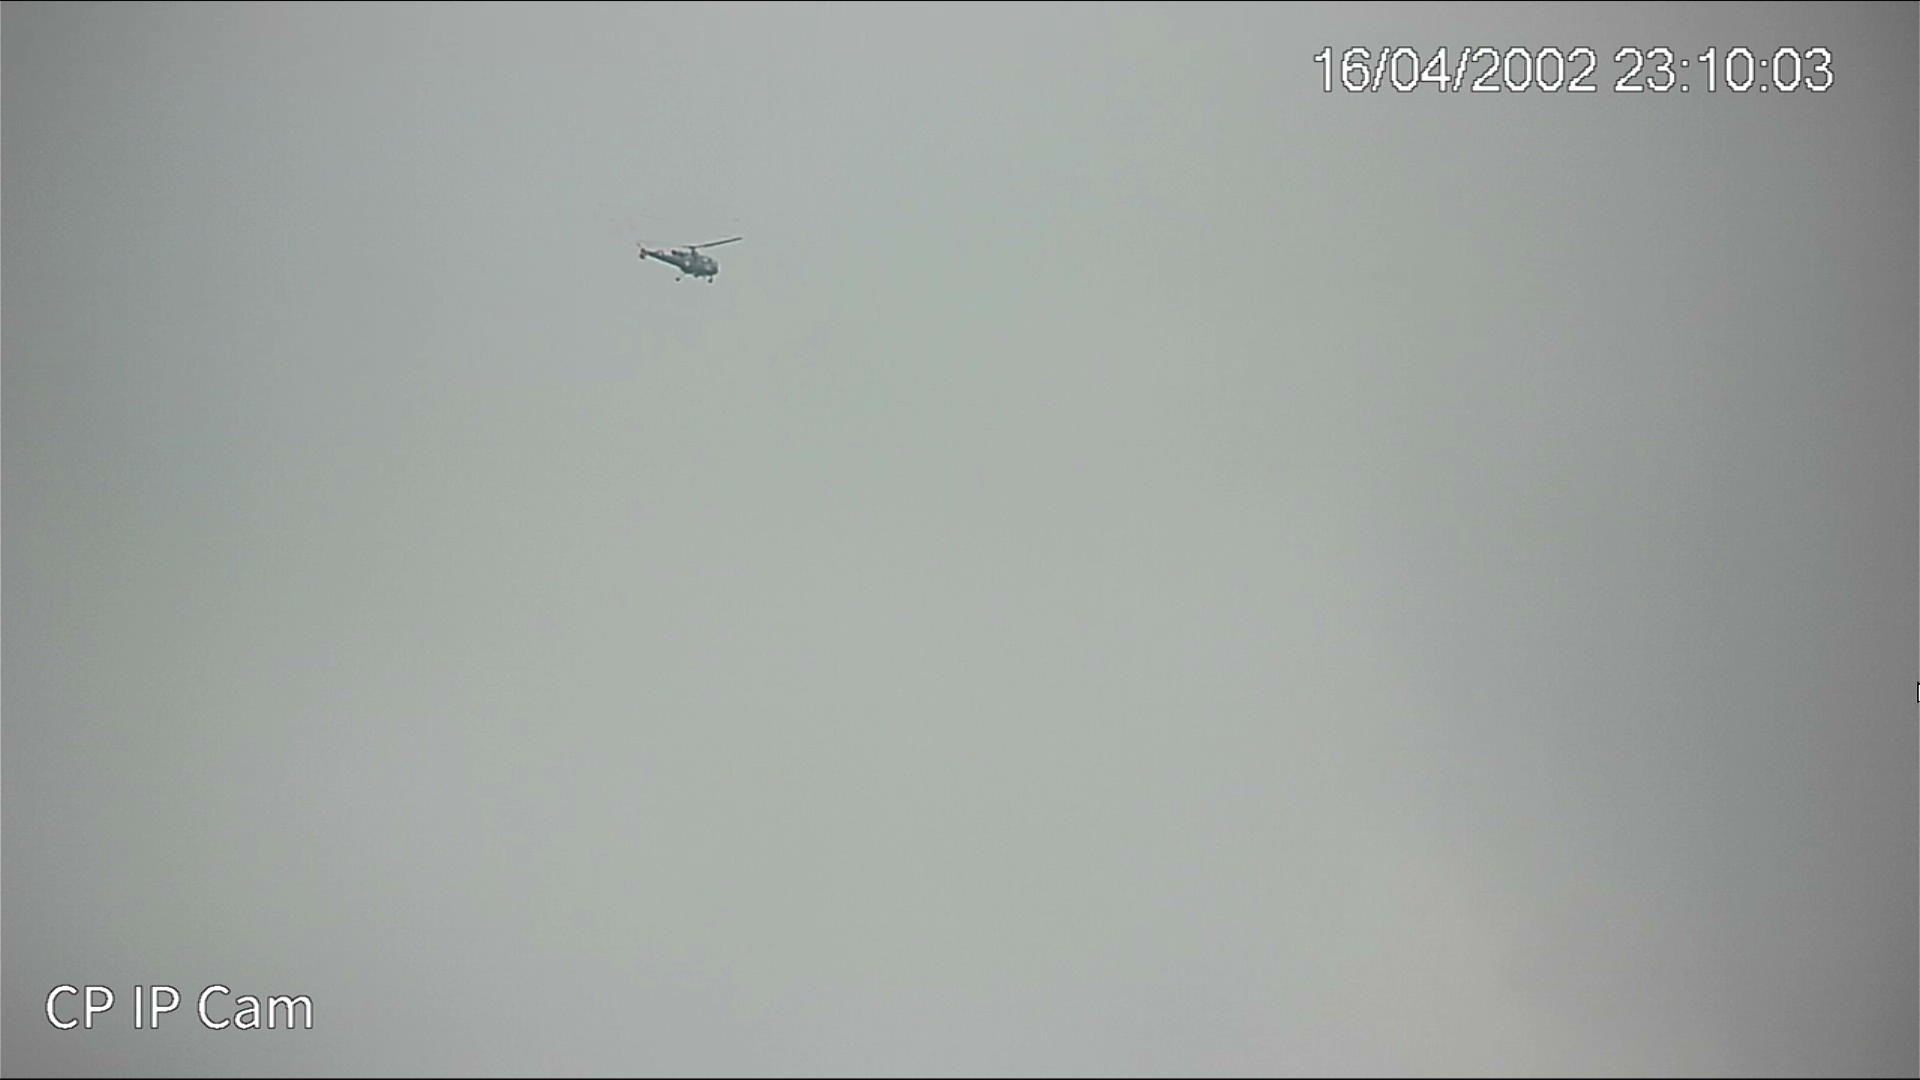SU_30: (636, 237, 723, 287)
